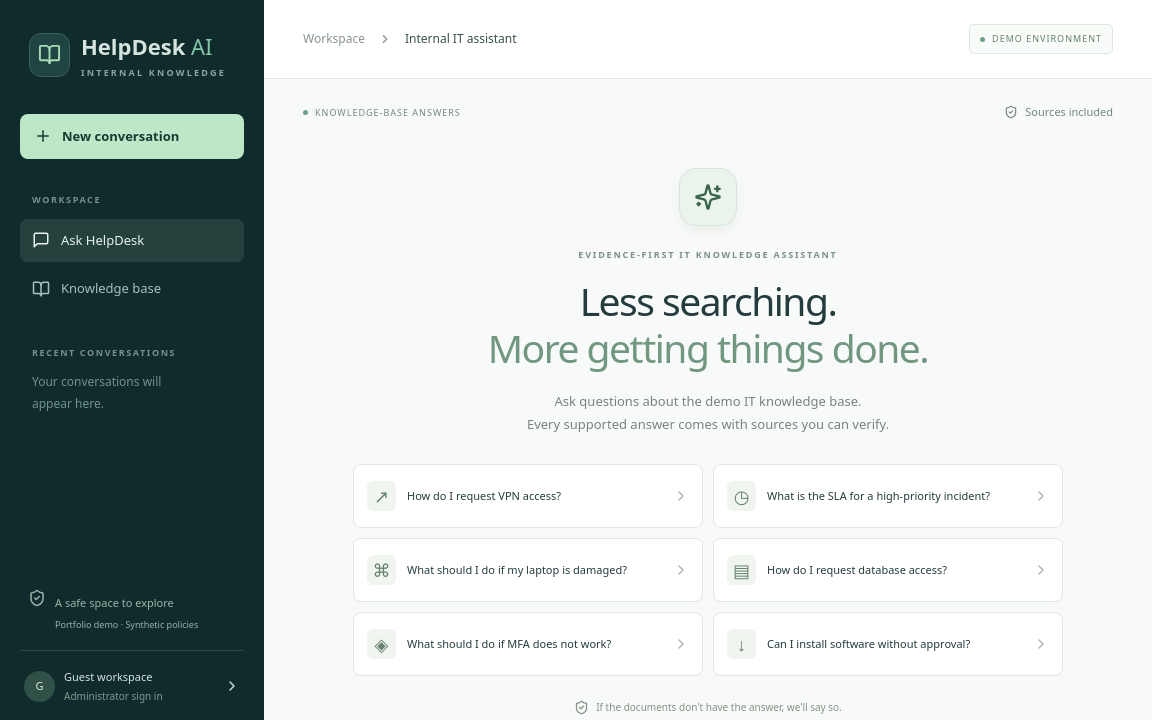
it: guest asks immediately and sees authoritative answer without login
What coordinates should you click on to do the following:
click the button "↗ How do I request VPN access?"
I would click on:
 (528, 496)
Its box is [353,464,703,528].
(page scrolled)
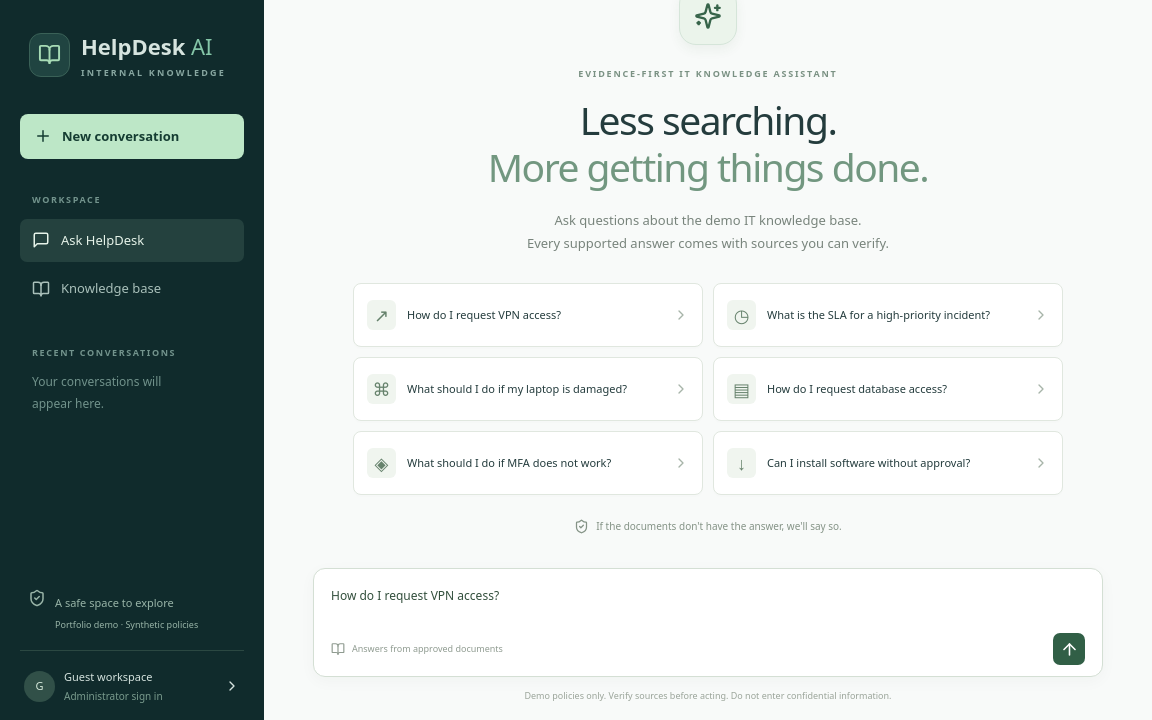
Check: the text box named "Ask an IT question" holds "How do I request VPN access?", box [331,586,1085,627]
What coordinates should you click on to do the following:
click the button named "Send question"
I would click on:
 (1069, 649)
Its box is [1053,633,1085,665].
(page scrolled)
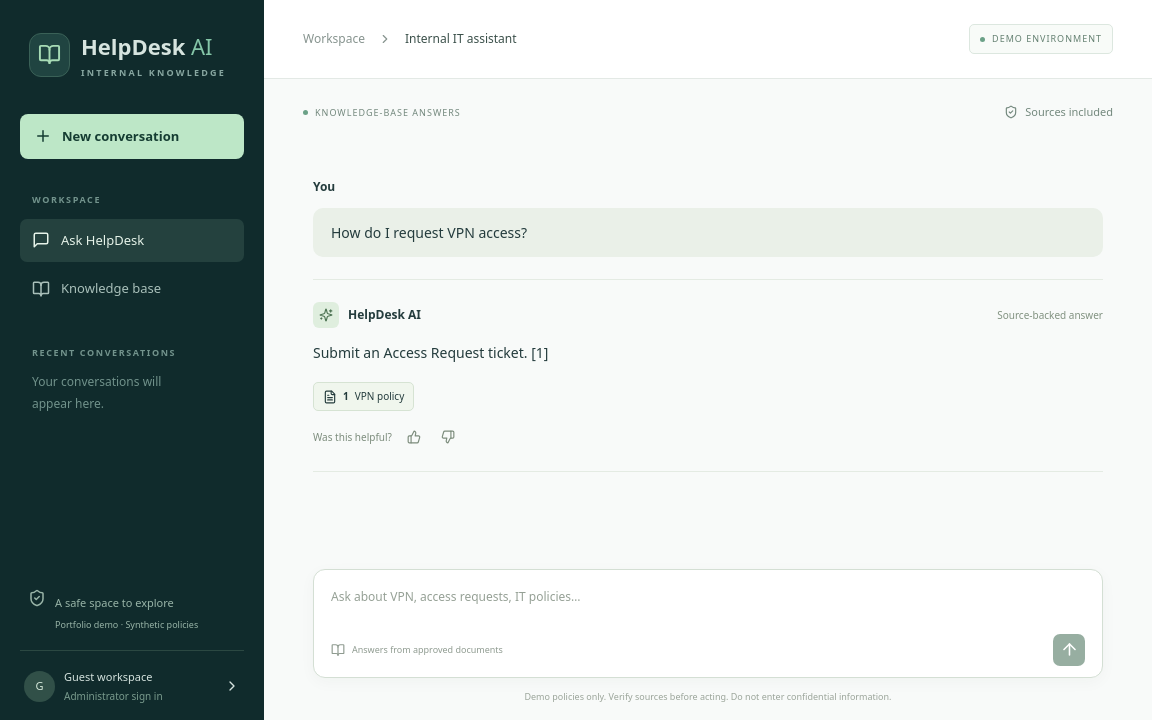
Check: the text "Submit an Access Request ticket. [1]" is shown, box [313,343,548,362]
